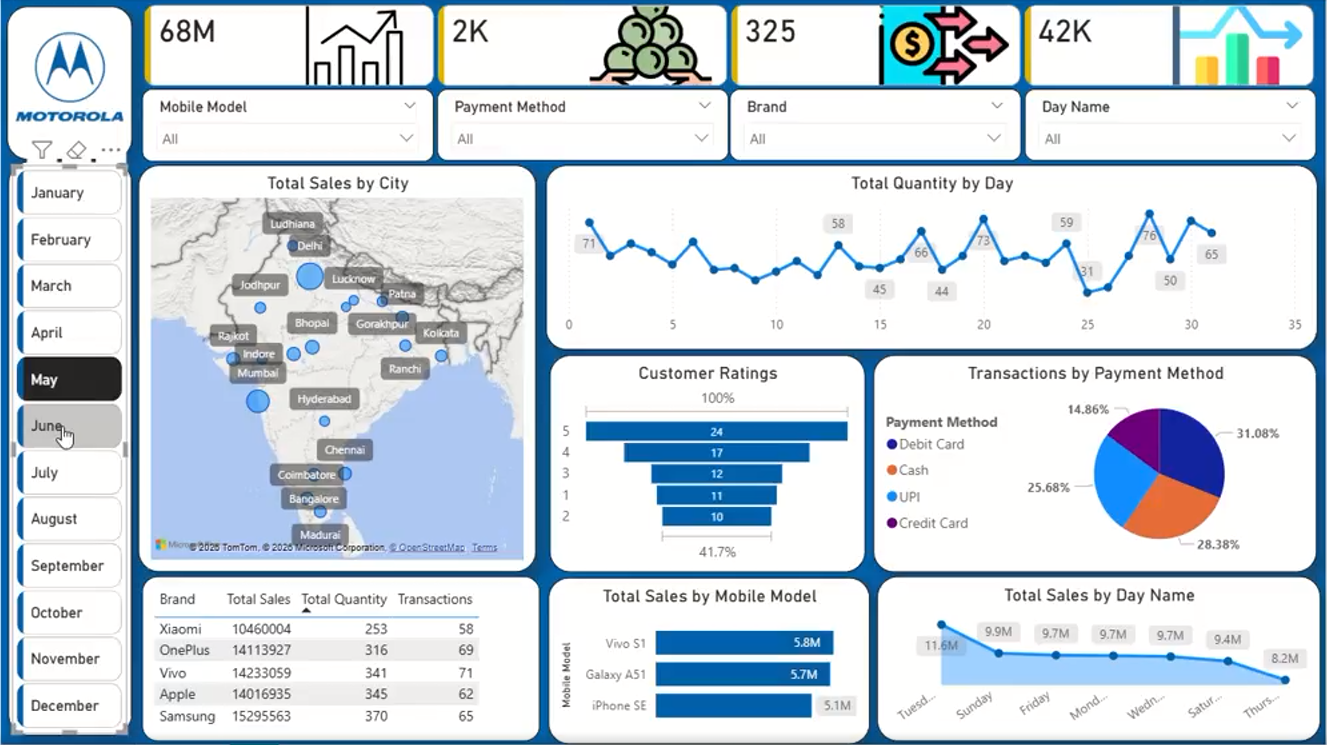

The page's visual inventory and layout, read from the dashboard file:
{"tool":"powerbi","page":{"name":"Page 1","canvas":[1280,720],"ordinal":0},"visuals":[{"type":"shape","box":[5.5,6.9,120.8,148.2],"z":0},{"type":"image","box":[9.6,16.5,113.9,116.6],"z":1000},{"type":"shape","box":[6.9,156.4,119.4,554.4],"z":2000},{"type":"advancedSlicerVisual","fields":{"Values":["Sales_Data.Date.Variation.Date Hierarchy.Month"]},"box":[11,160.5,111.1,548.9],"z":3000},{"type":"cardVisual","fields":{"Data":["Sales_Data.Total Sales","Sales_Data.Total Quantity","Sales_Data.Transactions","Sales_Data.Average"]},"box":[134,5.6,1140.1,83.7],"z":4000},{"type":"map","fields":{"Category":["Sales_Data.City"],"Size":["Sales_Data.Total Sales"]},"box":[132.9,160.8,384.1,393.1],"z":5000},{"type":"lineChart","fields":{"Y":["Sales_Data.Total Quantity"],"Category":["Sales_Data.Date.Variation.Date Hierarchy.Month","Sales_Data.Date.Variation.Date Hierarchy.Day"]},"box":[525.9,160.8,744.8,178.7],"z":6000},{"type":"clusteredBarChart","fields":{"Category":["Sales_Data.Mobile Model"],"Y":["Sales_Data.Total Sales"]},"box":[528.3,558.5,310.1,160.5],"z":7000},{"type":"pieChart","fields":{"Category":["Sales_Data.Payment Method"],"Y":["Sales_Data.Transactions"]},"box":[842.5,344.4,428.1,209.9],"z":8000},{"type":"funnel","title":"Customer Ratings","fields":{"Category":["Sales_Data.Customer Ratings"],"Y":["Sum(Sales_Data.Customer Ratings)"]},"box":[529.7,344.4,304.6,209.9],"z":9000},{"type":"areaChart","fields":{"Category":["Sales_Data.Day Name"],"Y":["Sales_Data.Total Sales"]},"box":[845.3,557.1,428.1,159.2],"z":10000},{"type":"tableEx","fields":{"Values":["Sales_Data.Brand","Sales_Data.Total Sales","Sales_Data.Total Quantity","Sales_Data.Transactions"]},"box":[135.8,557.1,384.2,159.2],"z":11000},{"type":"slicer","fields":{"Values":["Sales_Data.Mobile Model"]},"box":[136.2,87.1,281.4,70.3],"z":12000},{"type":"slicer","fields":{"Values":["Sales_Data.Payment Method"]},"box":[421,87.1,281.4,69.2],"z":13000},{"type":"slicer","fields":{"Values":["Sales_Data.Brand"]},"box":[703.5,87.1,281.4,69.2],"z":14000},{"type":"slicer","fields":{"Values":["Sales_Data.Day Name"]},"box":[988.2,87.1,281.4,69.2],"z":15000}]}

Visuals, with their boxes in screenshot pixels (x1, y1, x2, y2), scaled from the page's 1280x720 canvas onto the 1327x745 screenshot:
shape: bbox=(6, 7, 131, 160)
image: bbox=(10, 17, 128, 138)
shape: bbox=(7, 162, 131, 735)
advancedSlicerVisual - Sales_Data.Date.Variation.Date Hierarchy.Month: bbox=(11, 166, 127, 734)
cardVisual - Sales_Data.Total Sales x Sales_Data.Total Quantity: bbox=(139, 6, 1321, 92)
map - Sales_Data.City x Sales_Data.Total Sales: bbox=(138, 166, 536, 573)
lineChart - Sales_Data.Total Quantity x Sales_Data.Date.Variation.Date Hierarchy.Month: bbox=(545, 166, 1317, 351)
clusteredBarChart - Sales_Data.Mobile Model x Sales_Data.Total Sales: bbox=(548, 578, 869, 744)
pieChart - Sales_Data.Payment Method x Sales_Data.Transactions: bbox=(873, 356, 1317, 574)
"Customer Ratings" funnel: bbox=(549, 356, 865, 574)
areaChart - Sales_Data.Day Name x Sales_Data.Total Sales: bbox=(876, 576, 1320, 741)
tableEx - Sales_Data.Brand x Sales_Data.Total Sales: bbox=(141, 576, 539, 741)
slicer - Sales_Data.Mobile Model: bbox=(141, 90, 433, 163)
slicer - Sales_Data.Payment Method: bbox=(436, 90, 728, 162)
slicer - Sales_Data.Brand: bbox=(729, 90, 1021, 162)
slicer - Sales_Data.Day Name: bbox=(1024, 90, 1316, 162)
